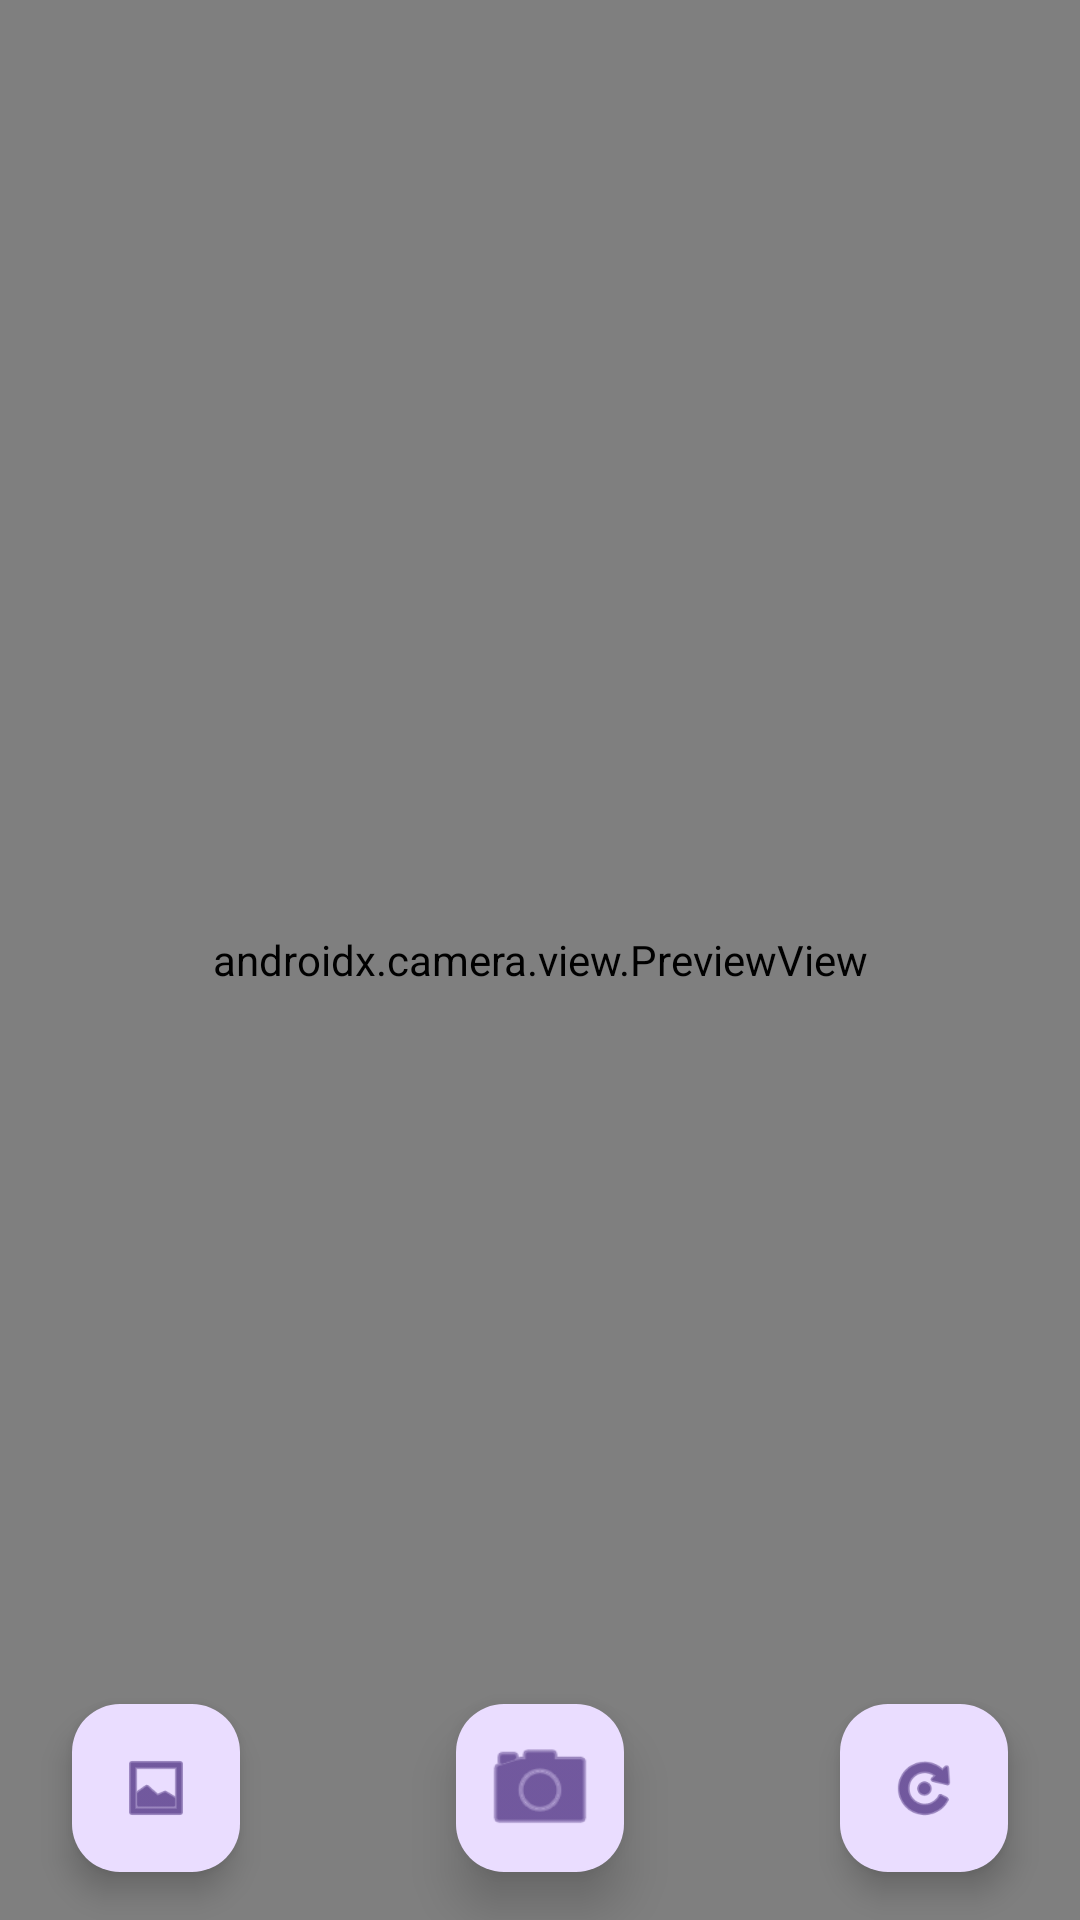

Screen size 1080 x 1920. Icon name, then its box in pixels as {"x1": x1, "y1": y1, "x2": x2, "y2": y2}:
gallery: {"x1": 72, "y1": 1704, "x2": 240, "y2": 1872}
rotate: {"x1": 840, "y1": 1704, "x2": 1008, "y2": 1872}
